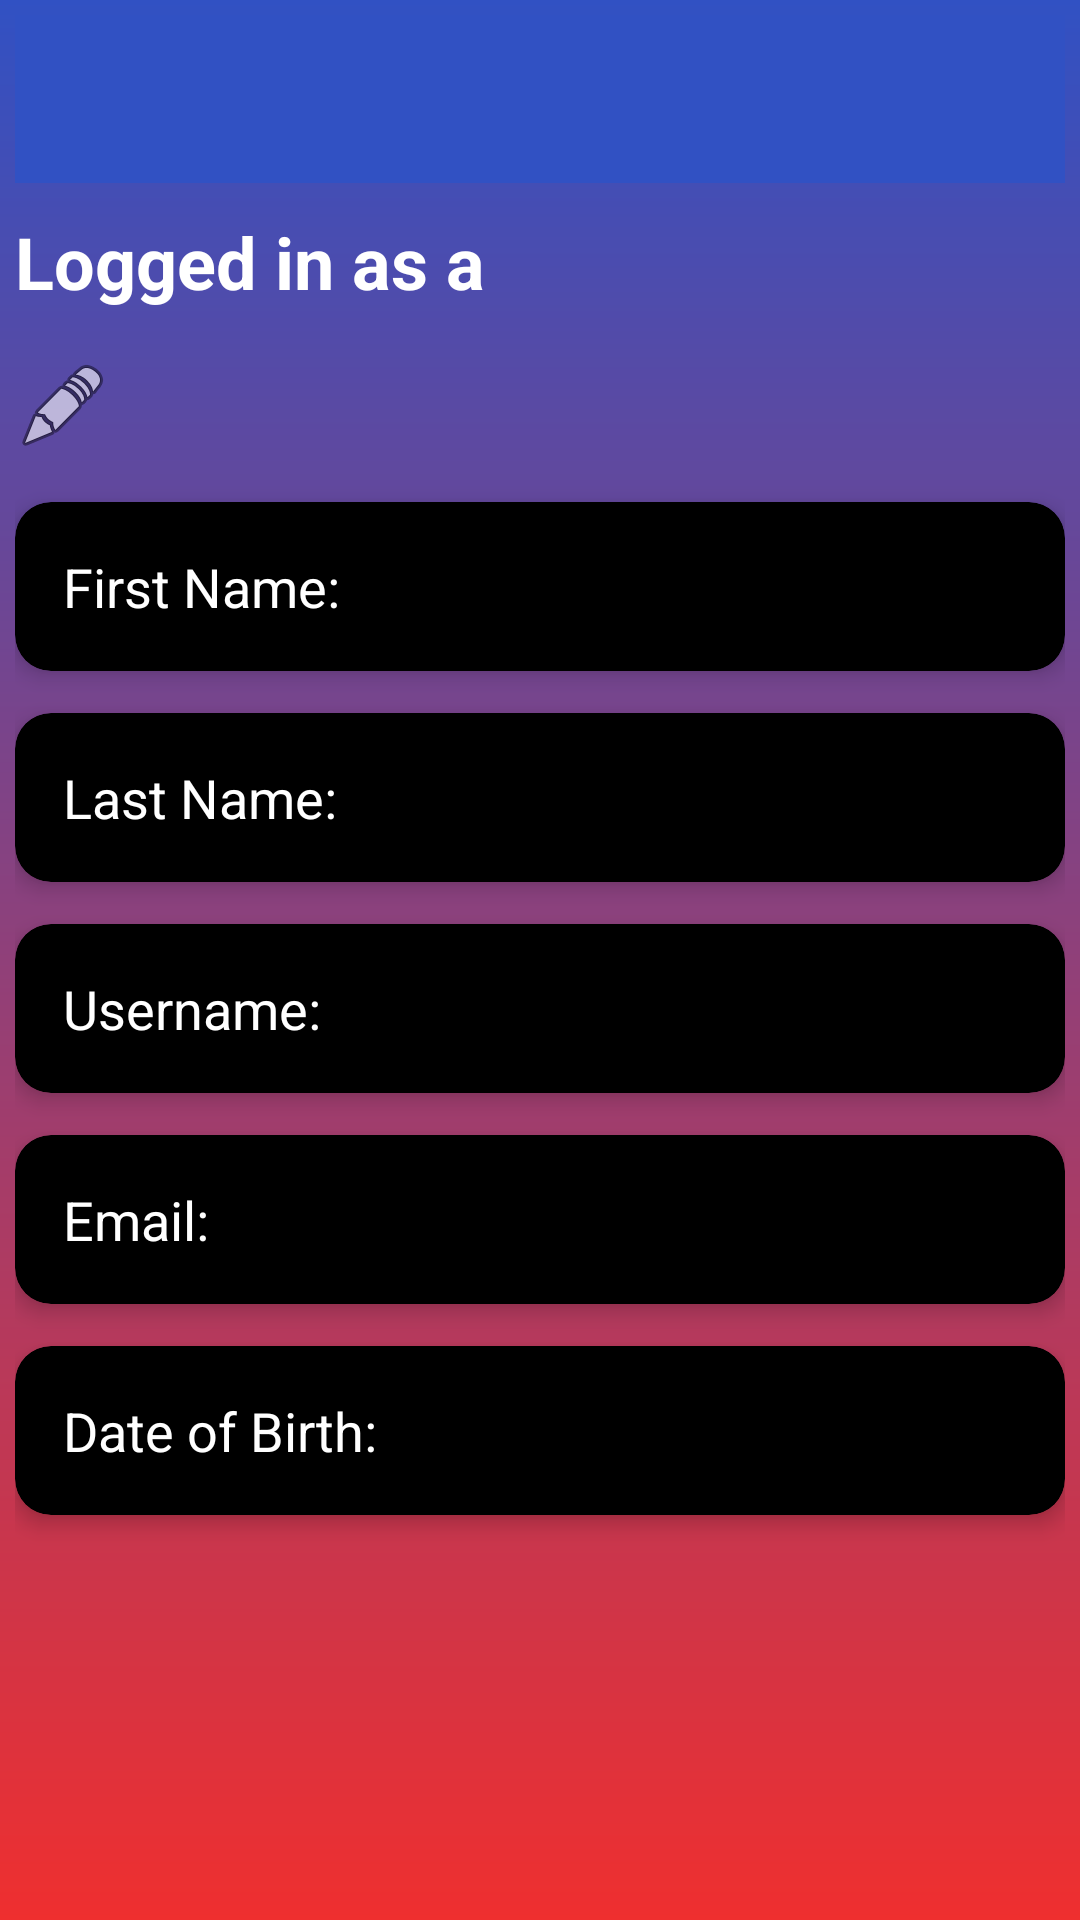

Point at icon controls on the screen. Image size 1080w x 1920h, points as (x=x, y=y).
Edit Profile: (x=62, y=405)
